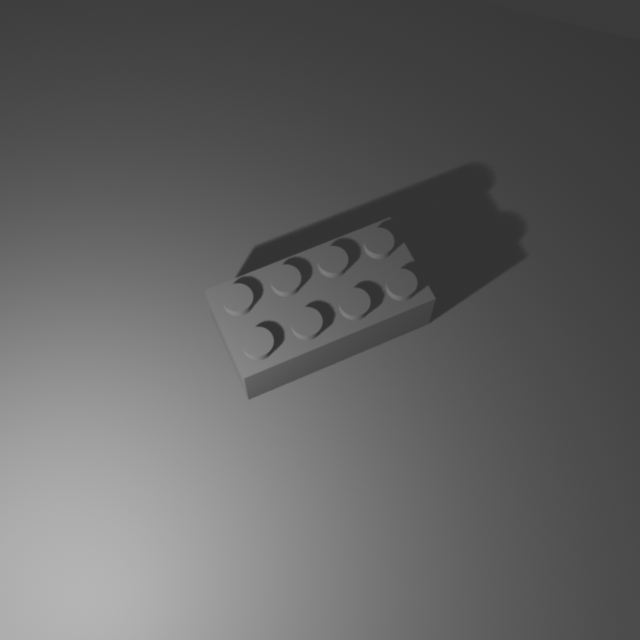lego_2x4: (204, 212, 437, 400)
